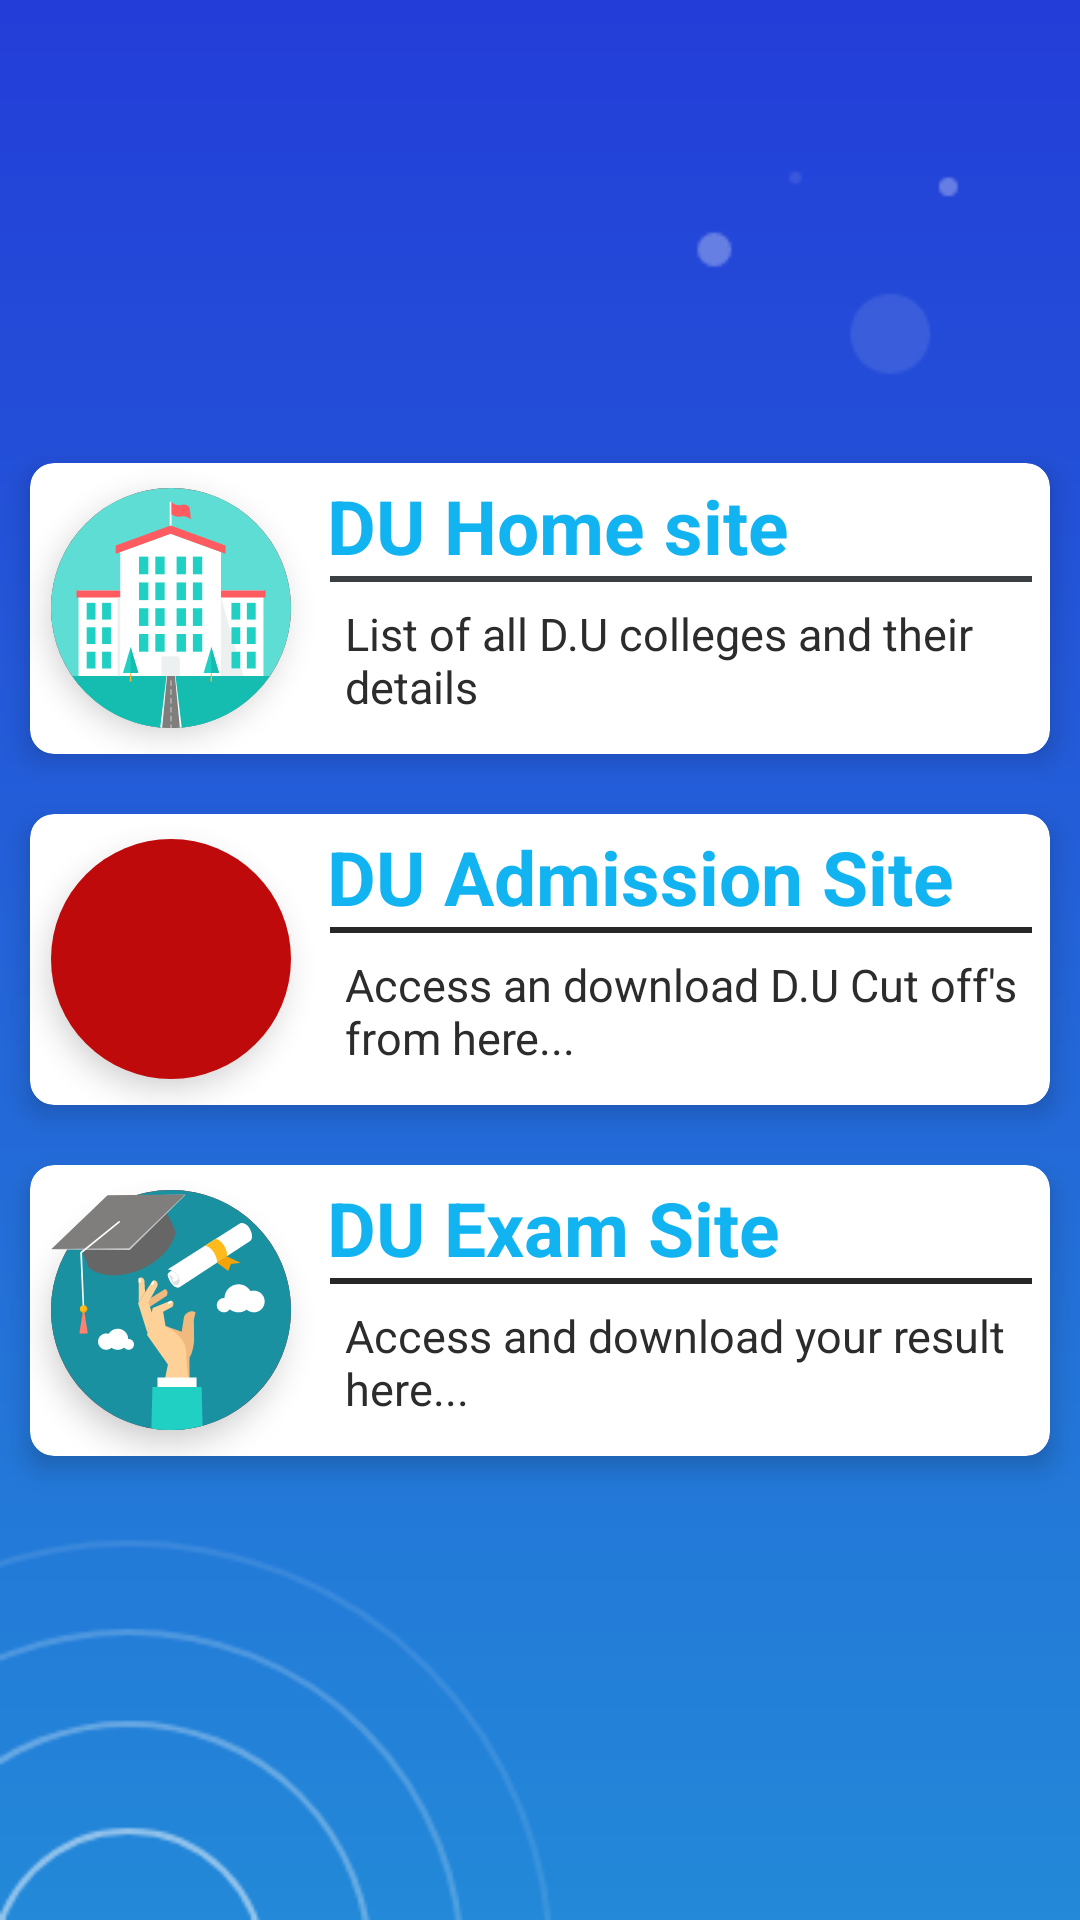

Locate icon controls on the screen. Image size 1080×1920, boxes as (x1, y1, x2, y2).
graduation: (51, 1190, 291, 1430)
school: (51, 488, 291, 728)
